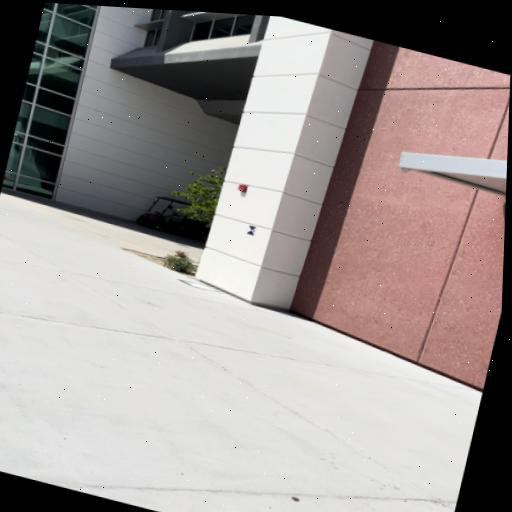target6: (246, 225, 257, 236)
